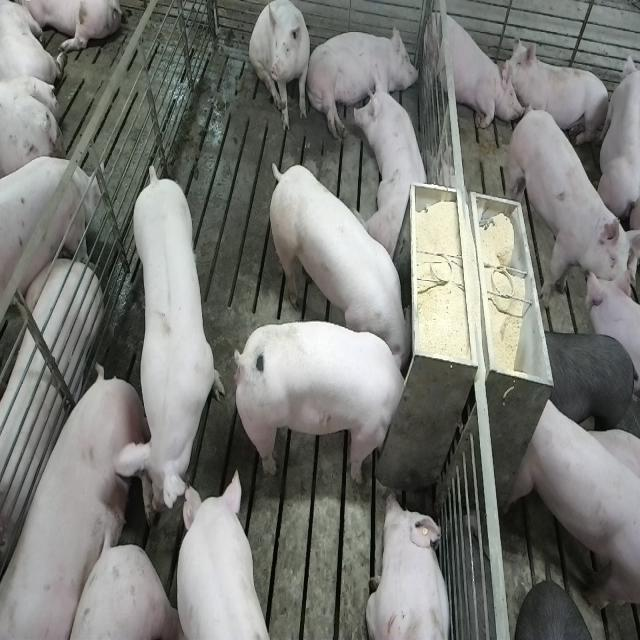Feeding: (264, 160, 412, 370), (230, 319, 408, 484)
Lateral_lying: (0, 368, 150, 640), (0, 255, 101, 590), (306, 24, 418, 140)
Sitting: (424, 3, 517, 135), (249, 2, 312, 134)
Standing: (122, 166, 221, 525), (508, 394, 638, 613), (504, 109, 636, 319), (0, 158, 99, 345), (170, 469, 275, 640), (541, 327, 637, 437)
Sternal_lying: (355, 70, 433, 258), (366, 490, 452, 640), (504, 38, 611, 151)
